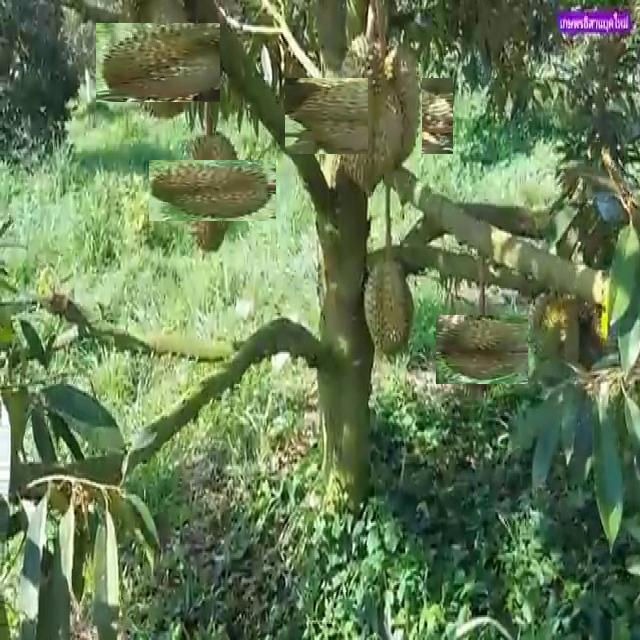durian: (308, 55, 430, 178), (106, 12, 208, 114), (165, 143, 260, 238), (368, 41, 422, 176), (441, 309, 522, 390), (361, 256, 417, 360)
